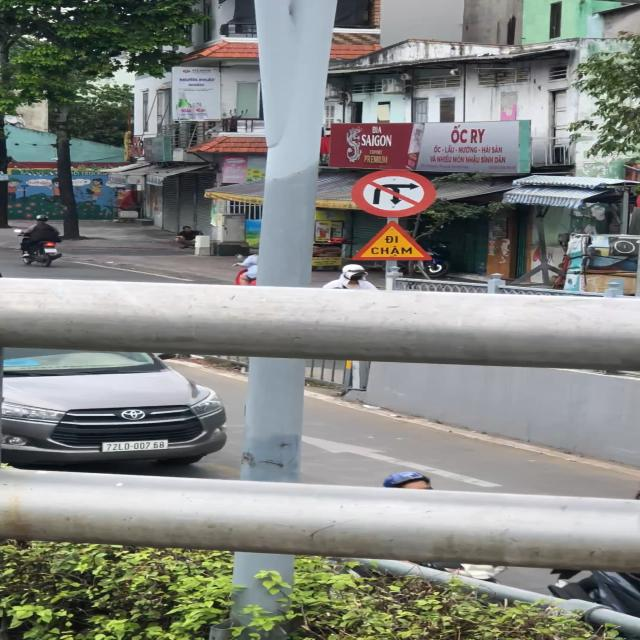Bien bao cam re phai va quay dau: (348, 168, 441, 220)
